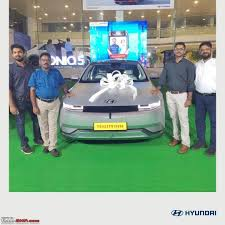Honda Ioniq: (61, 57, 166, 150)
